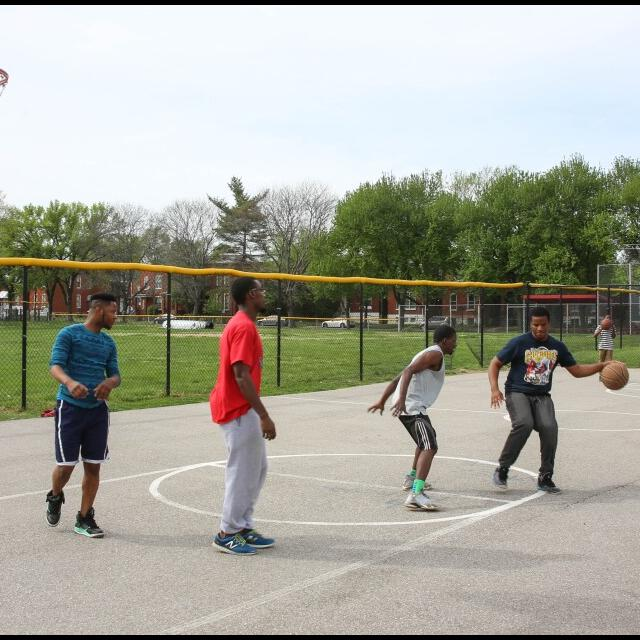basketball: (600, 360, 630, 390), (601, 320, 611, 329)
